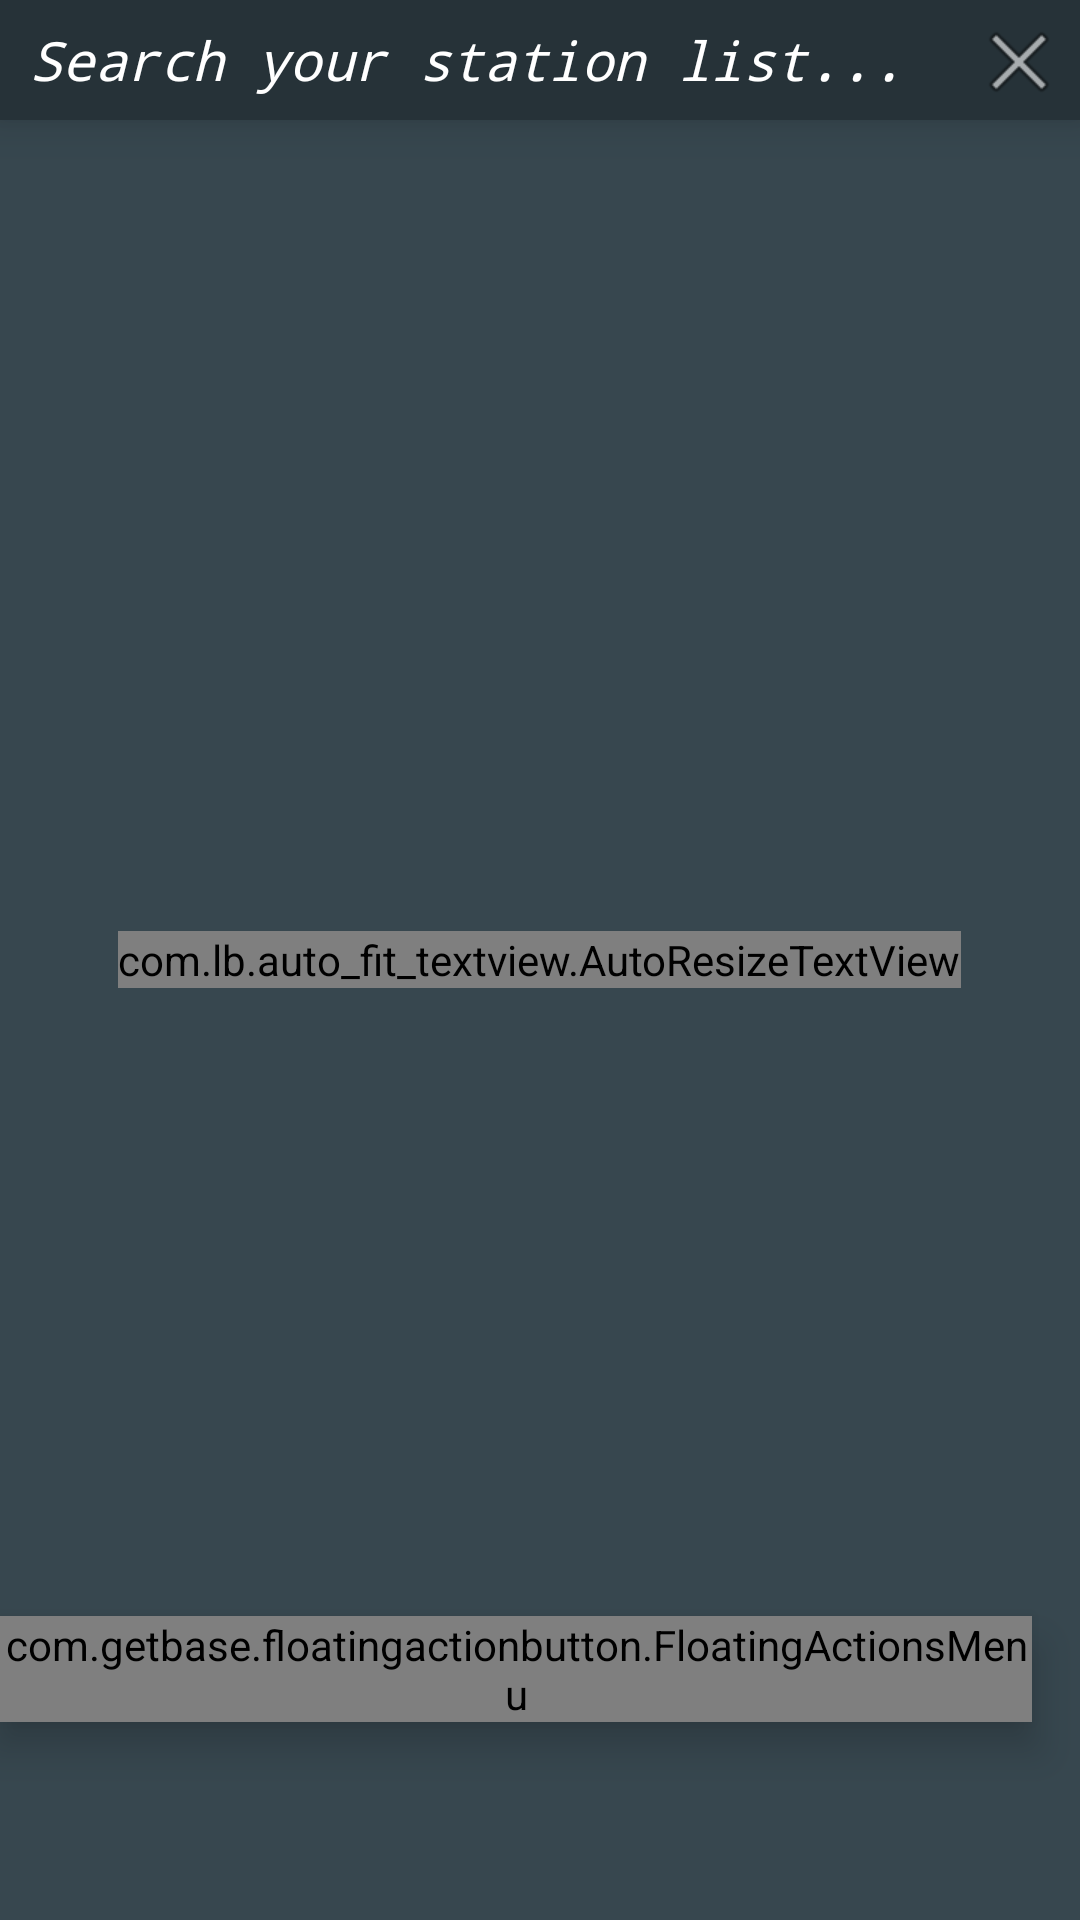

Where to tap for icons on this 1080 x 1920 app screen, as point (x, y):
close clear cancel: point (1019, 62)
